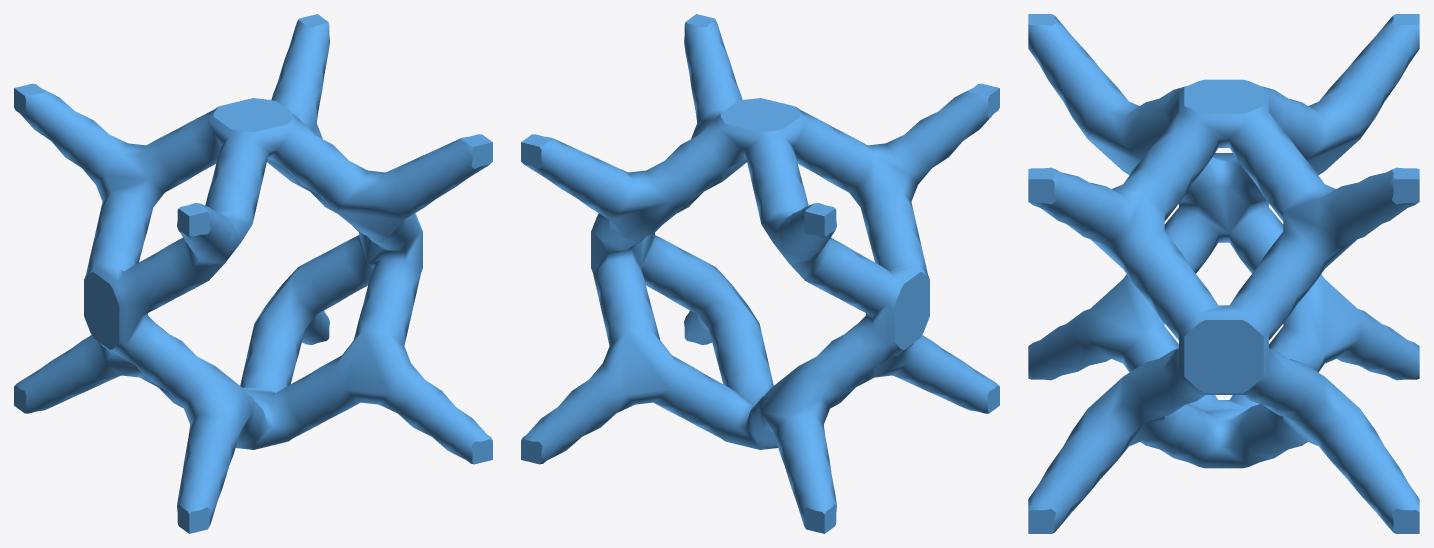
File: Variation2.glb
3 views of the same model, side by side, from view 1: azimuth 30°, elevation 25°; view 2: azimuth 150°, elevation 25°; view 3: azimuth 270°, elevation 25° (orthographic). The views are drawn at different scales.
Visible parts, largest first — view 1: Mesh_0.015; view 2: Mesh_0.015; view 3: Mesh_0.015.
Boxes of the visible parts, box(x1,y1,x2,y2) form: Mesh_0.015: box(14, 14, 492, 533); Mesh_0.015: box(521, 14, 999, 533); Mesh_0.015: box(1028, 14, 1419, 533).
Bounding box in the file's own units: 1 × 1 × 1.
